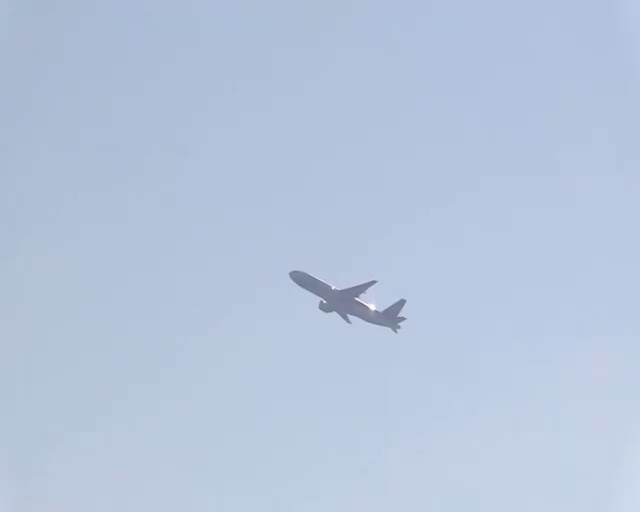AIRPLANE: (288, 268, 408, 334)
